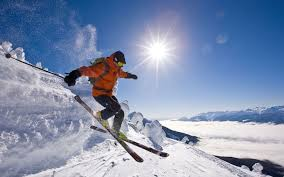skier: (3, 49, 171, 163)
